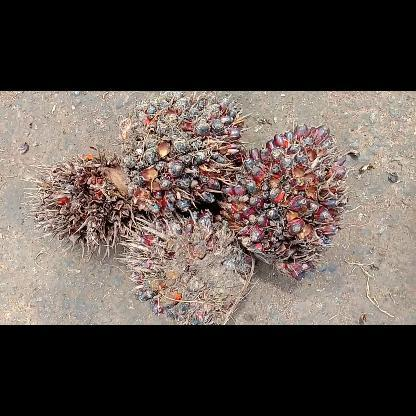TBS abnormal: (216, 124, 360, 280), (118, 91, 250, 215), (114, 210, 254, 324), (24, 148, 142, 260)
